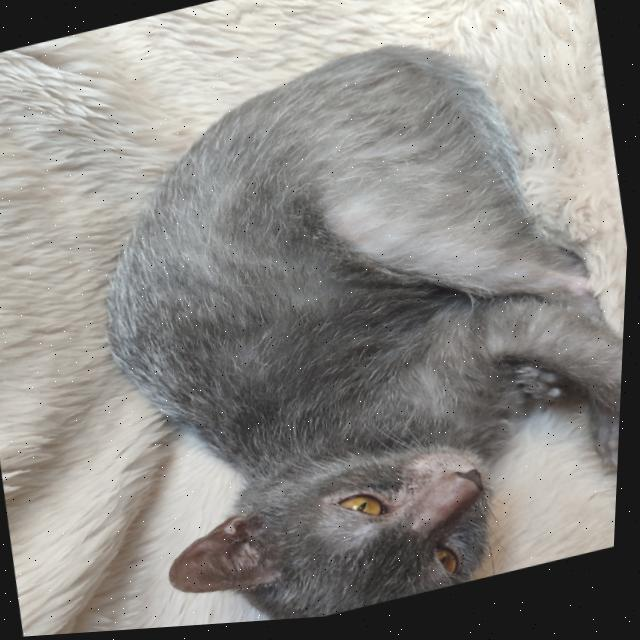Lykoi: (53, 0, 639, 636)
